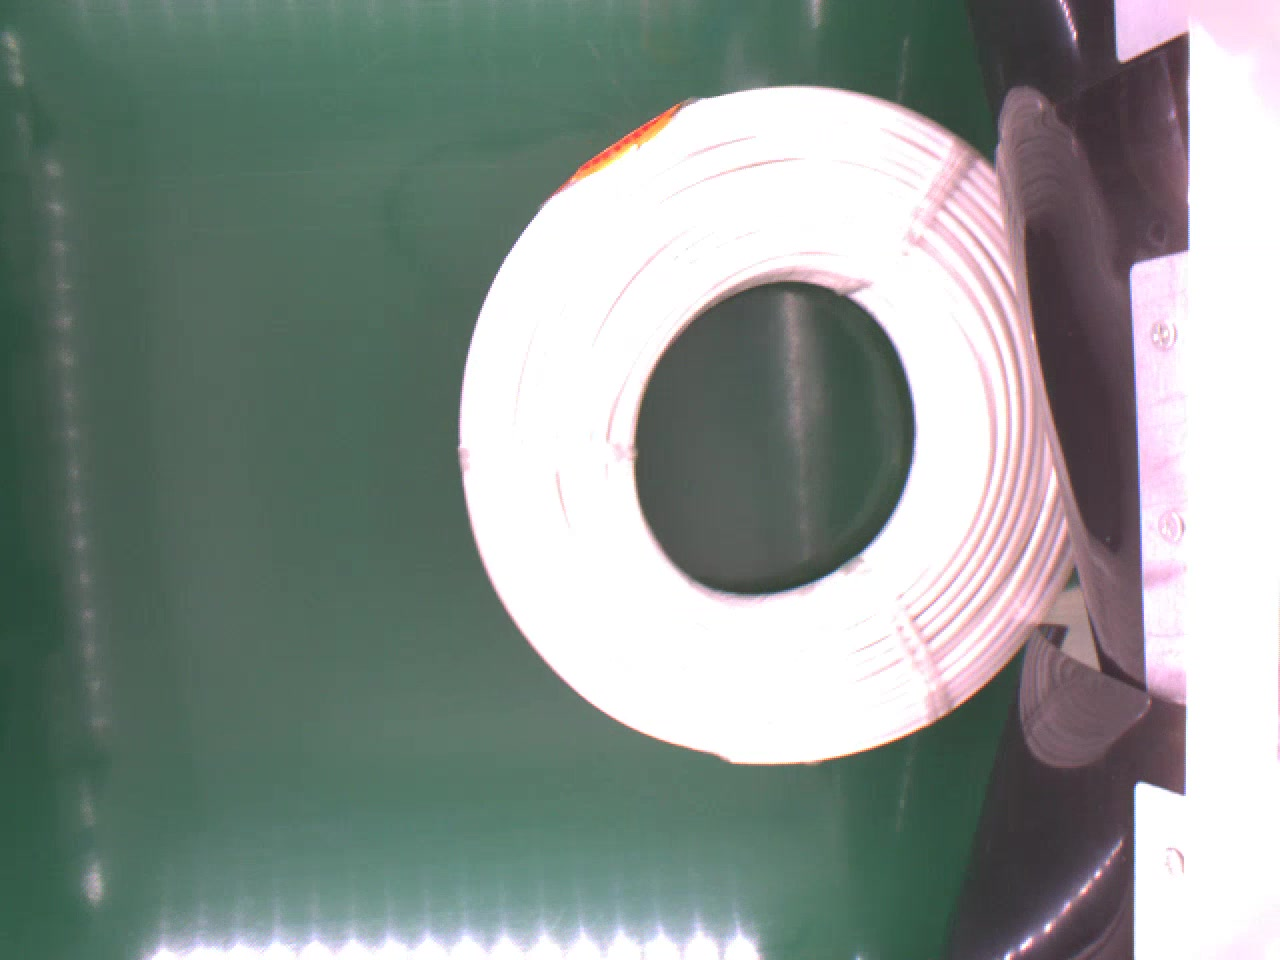white: (457, 79, 1075, 771)
